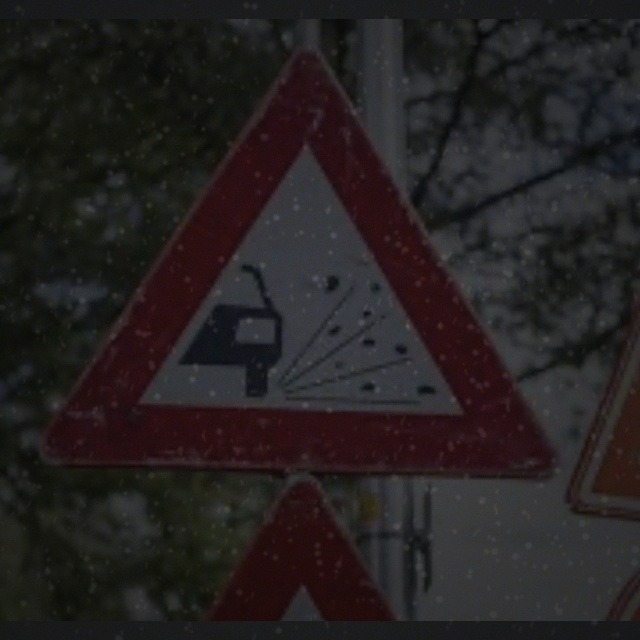Loose_Gravel: (59, 51, 558, 476)
